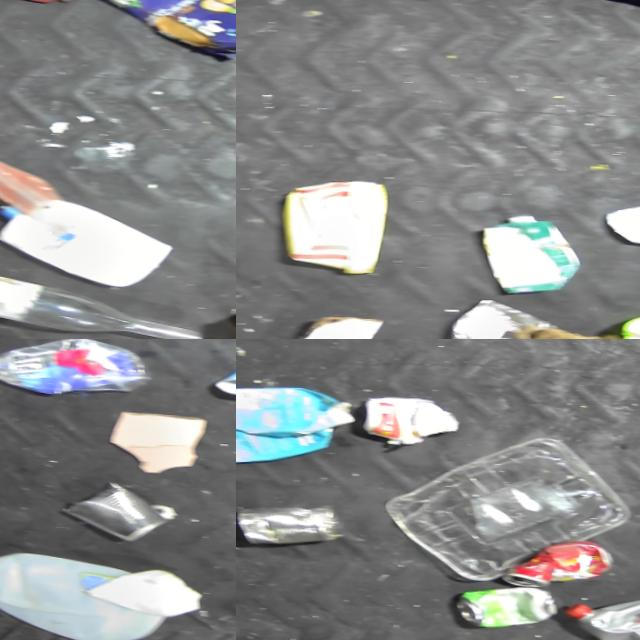can: (48, 479, 167, 545), (490, 538, 610, 592), (442, 585, 552, 633), (236, 500, 339, 549), (439, 297, 553, 339), (202, 359, 236, 407)
milk_jug: (0, 195, 170, 291), (0, 545, 166, 640)
non_white_jug: (273, 178, 388, 278), (236, 382, 353, 471), (469, 214, 575, 296), (548, 594, 640, 640)
